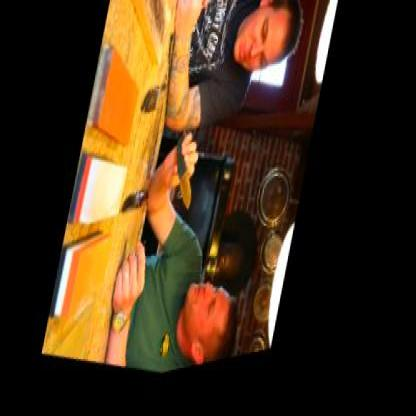knife: (167, 140, 208, 230)
